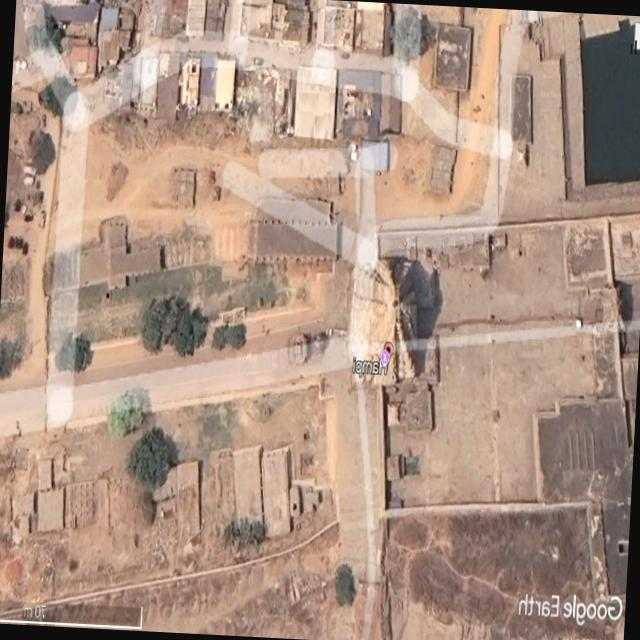objects-ruins-artifacts: (190, 20, 550, 238), (99, 257, 272, 552)
